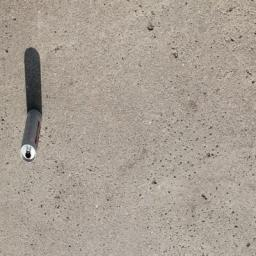FOD: (18, 50, 57, 164)
